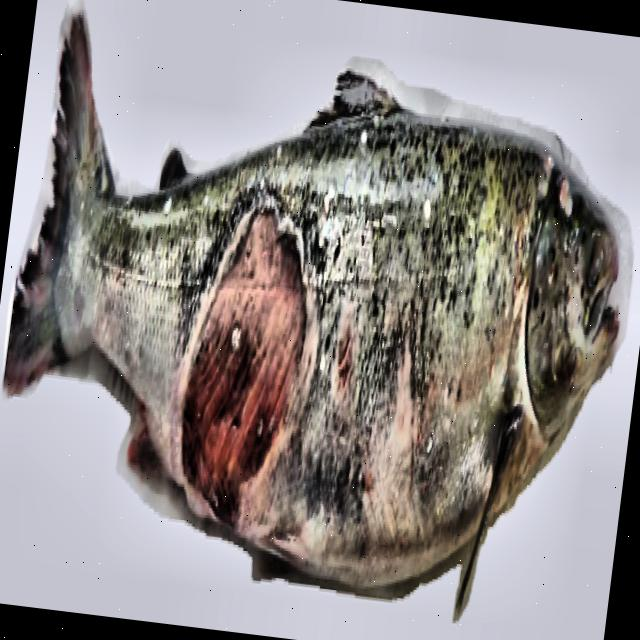wound: (180, 214, 308, 521), (328, 316, 355, 393)
